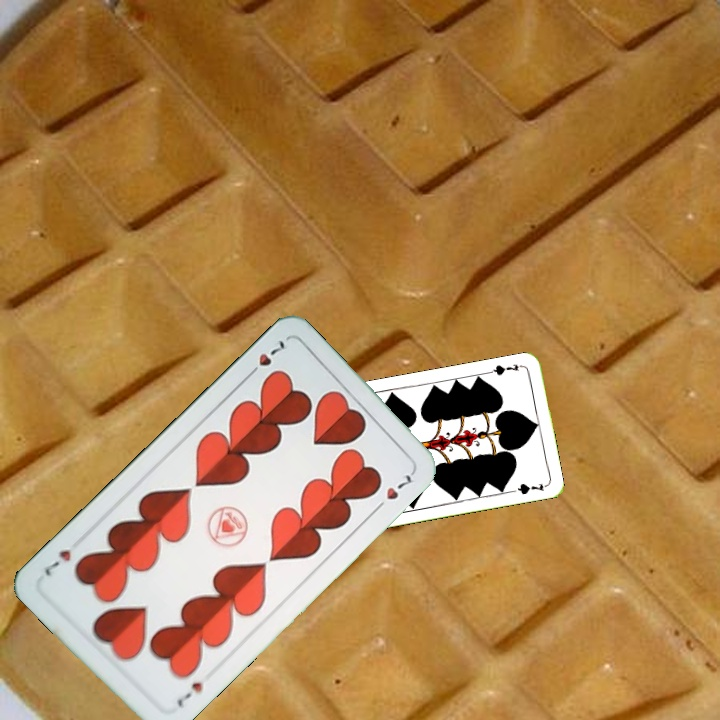G7: (486, 360, 521, 378)
H7: (243, 336, 288, 381), (172, 677, 205, 709)
